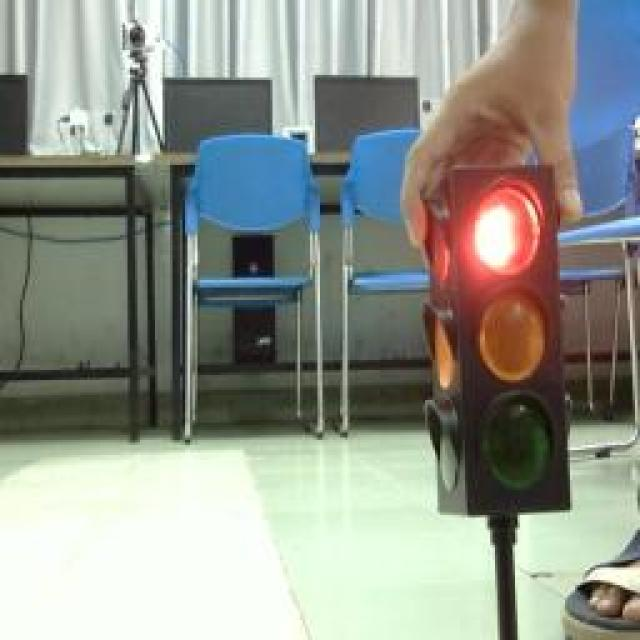-: (468, 171, 553, 283)
